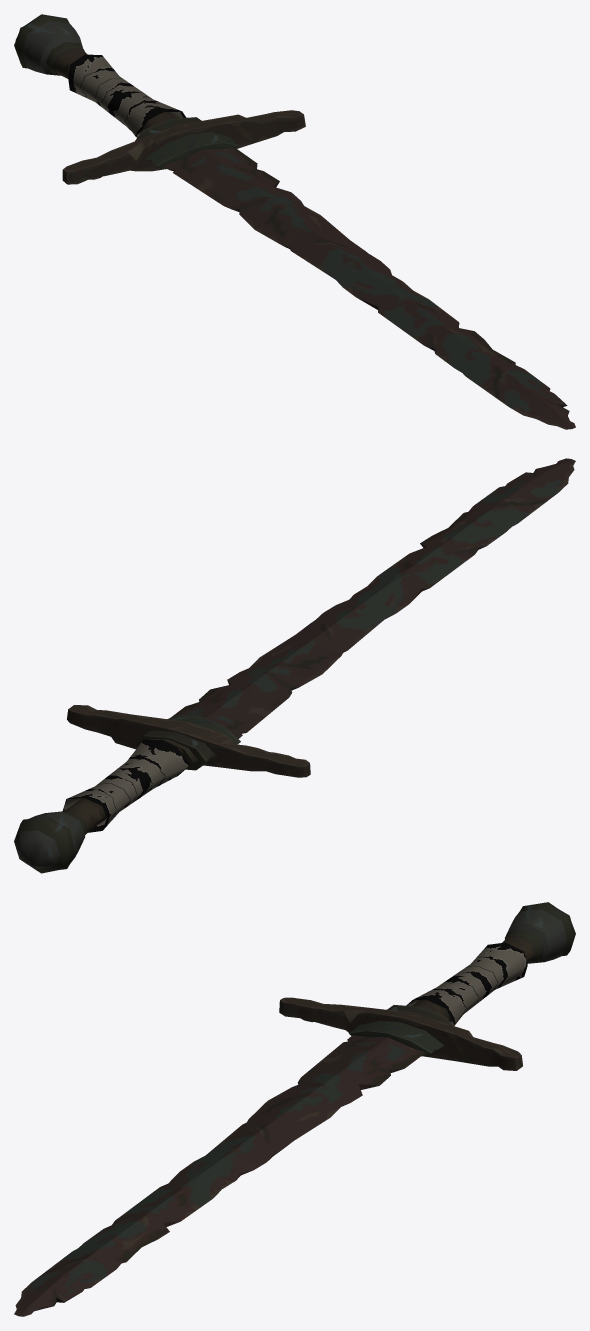
Rendered from Weapon_Sword_021.glb.
The picture shows the model from 3 angles, top to bottom: view 1: azimuth 30°, elevation 25°; view 2: azimuth 150°, elevation 25°; view 3: azimuth 330°, elevation 25°; orthographic projection.
Visible parts, largest first — view 1: Weapon_Sword_021; view 2: Weapon_Sword_021; view 3: Weapon_Sword_021.
Part boxes in pixels (x1,y1,x2,y2): Weapon_Sword_021: (14, 14, 575, 429); Weapon_Sword_021: (14, 458, 575, 873); Weapon_Sword_021: (14, 902, 575, 1316).
Bounding box in the file's own units: 0.2919 × 0.0639 × 1.15.
Materials: 1 (1 with a texture image).
